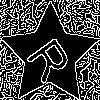R: (24, 30, 81, 86)
